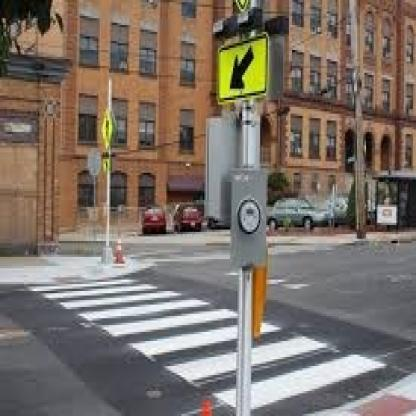Crosswalk: (27, 278, 389, 402)
